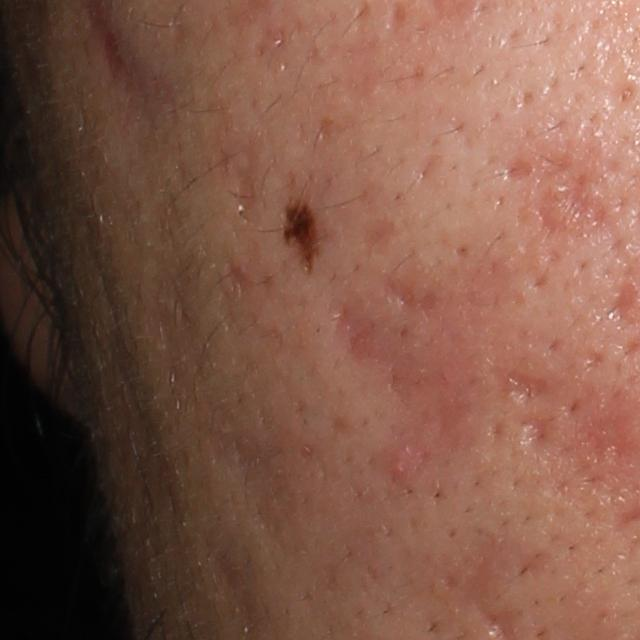atrophic_scar: (101, 143, 308, 557), (330, 303, 490, 448), (509, 140, 621, 246), (205, 98, 264, 221), (374, 274, 452, 315), (500, 359, 551, 412), (352, 216, 392, 260), (405, 152, 443, 187), (220, 255, 252, 295)
nevus: (274, 198, 325, 291)
